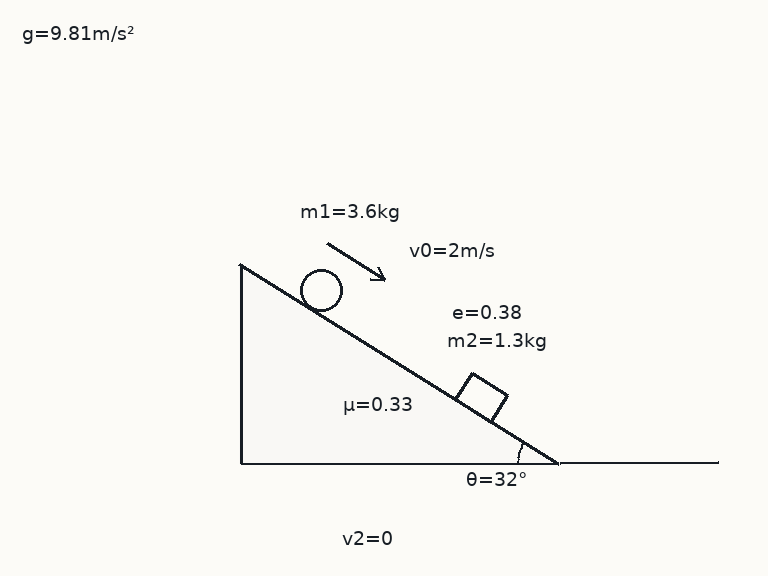ball: (298, 267, 344, 313)
block: (454, 371, 509, 423)
ramp: (238, 262, 560, 465)
